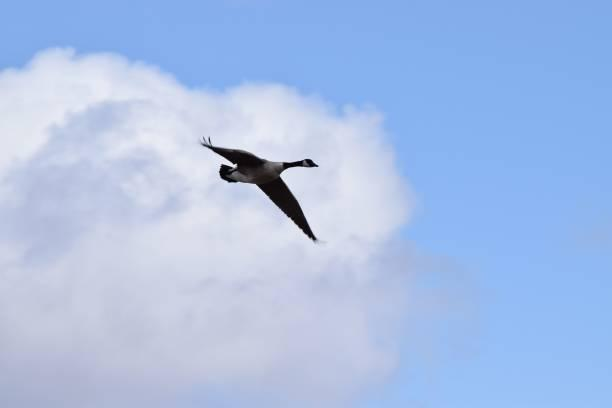Canadian-Goose: (197, 136, 329, 251)
